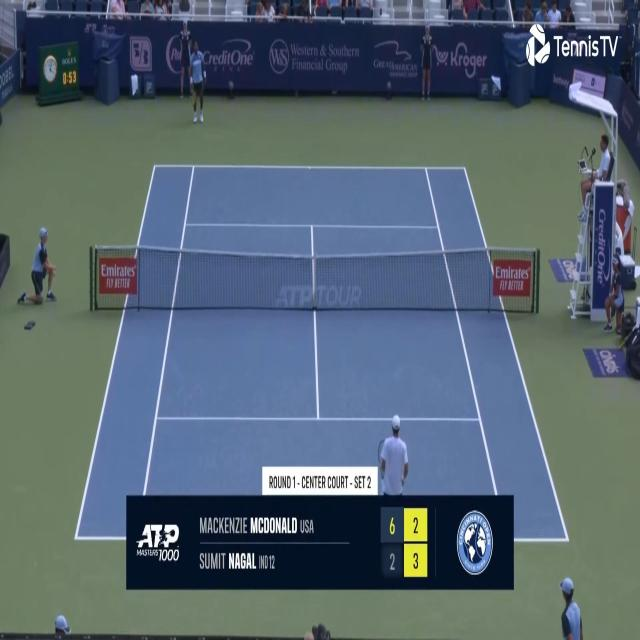tennis-player: (376, 414, 410, 496), (188, 37, 207, 124)
